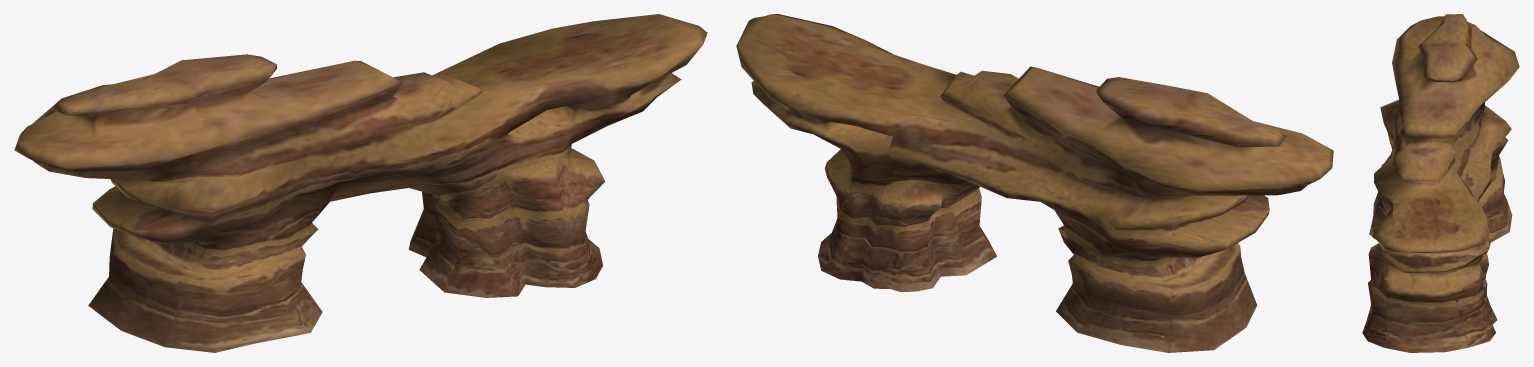
Rendered from TelNumara_Rock01.FBX.
3 views of the same model, side by side, from view 1: azimuth 30°, elevation 25°; view 2: azimuth 150°, elevation 25°; view 3: azimuth 270°, elevation 25° (orthographic). The views are drawn at different scales.
Visible parts, largest first — view 1: TelNumara_Rock01; view 2: TelNumara_Rock01; view 3: TelNumara_Rock01.
Boxes of the visible parts, x1,y1,x2,y2 form: TelNumara_Rock01: (14,14,707,352); TelNumara_Rock01: (736,14,1333,352); TelNumara_Rock01: (1362,14,1519,352).
Bounding box in the file's own units: 2590 × 952 × 777.
1 material, 1 textured.
